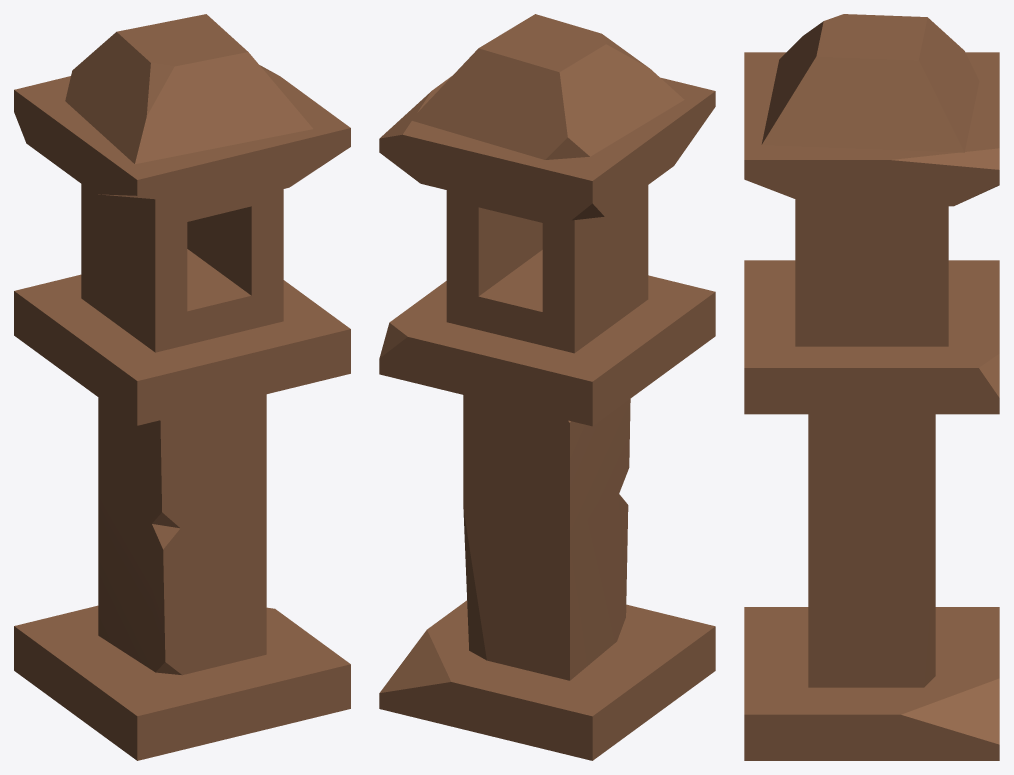
File: Monument_009.FBX
3 views of the same model, side by side, from view 1: azimuth 30°, elevation 25°; view 2: azimuth 150°, elevation 25°; view 3: azimuth 270°, elevation 25° (orthographic). The views are drawn at different scales.
Visible parts, largest first — view 1: Monument_009; view 2: Monument_009; view 3: Monument_009.
Boxes of the visible parts, left/top/right/bottom form: Monument_009: left=14, top=14, right=350, bottom=760; Monument_009: left=379, top=14, right=715, bottom=760; Monument_009: left=744, top=14, right=999, bottom=760.
Size of the model in its own units: 19.69 by 57.09 by 19.69.
